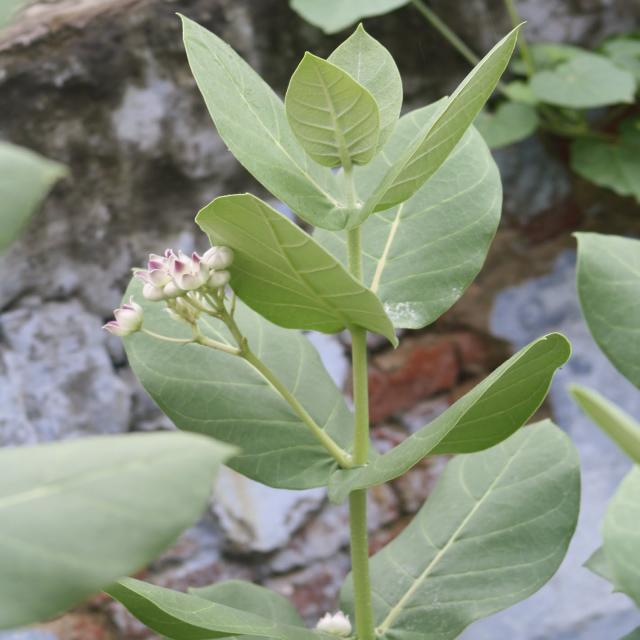Poisonous-Calatropis: (95, 7, 578, 503)
